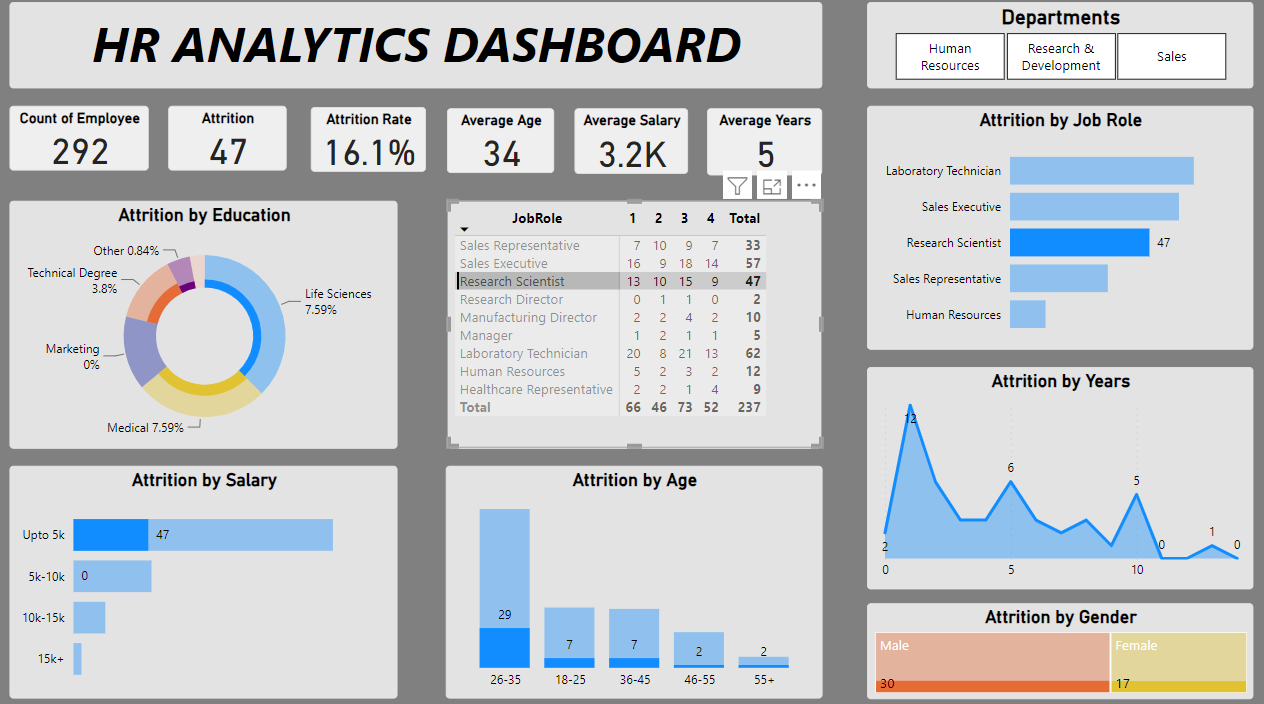

The page's visual inventory and layout, read from the dashboard file:
{"tool":"powerbi","page":{"name":"Page 1","canvas":[1280,720],"ordinal":0},"visuals":[{"type":"card","title":"Count of Employee","fields":{"Values":["CountNonNull(HR_Analytics.EmpID)"]},"box":[17,113.8,139.4,64.9],"z":0},{"type":"card","title":"Attrition","fields":{"Values":["Sum(HR_Analytics.AttritionCount)"]},"box":[176.6,113.8,118.1,64.9],"z":1000},{"type":"card","title":"Attrition Rate","fields":{"Values":["HR_Analytics.AttritionRate"]},"box":[319.1,114.9,114.9,64.9],"z":2000},{"type":"card","title":"Average Age ","fields":{"Values":["Avg(HR_Analytics.Age)"]},"box":[455.3,116,107.4,64.9],"z":3000},{"type":"card","title":"Average Salary","fields":{"Values":["Avg(HR_Analytics.MonthlyIncome)"]},"box":[583,116,113.8,66],"z":4000},{"type":"card","title":"Average Years ","fields":{"Values":["Avg(HR_Analytics.YearsAtCompany)"]},"box":[714.9,116,114.9,67],"z":5000},{"type":"donutChart","title":"Attrition by Education","fields":{"Category":["HR_Analytics.EducationField"],"Y":["Sum(HR_Analytics.AttritionCount)"]},"box":[17,208.5,388.3,247.9],"z":6000},{"type":"columnChart","title":"Attrition by Age","fields":{"Category":["HR_Analytics.AgeGroup"],"Y":["Sum(HR_Analytics.AttritionCount)"]},"box":[453.2,473.4,376.6,233],"z":7000},{"type":"pivotTable","fields":{"Rows":["HR_Analytics.JobRole"],"Columns":["HR_Analytics.JobSatisfaction"],"Values":["Sum(HR_Analytics.AttritionCount)"]},"box":[455.3,208.5,374.5,247.9],"z":8000},{"type":"barChart","title":"Attrition by Salary","fields":{"Category":["HR_Analytics.SalarySlab"],"Y":["Sum(HR_Analytics.AttritionCount)"]},"box":[17,473.4,388.3,233],"z":9000},{"type":"barChart","title":"Attrition by Job Role","fields":{"Category":["HR_Analytics.JobRole"],"Y":["Sum(HR_Analytics.AttritionCount)"]},"box":[875.5,113.8,386.2,243.6],"z":10000},{"type":"areaChart","title":"Attrition by Years","fields":{"Category":["HR_Analytics.YearsAtCompany"],"Y":["Sum(HR_Analytics.AttritionCount)"]},"box":[875,375,386.2,222.5],"z":11000},{"type":"treemap","title":"Attrition by Gender","fields":{"Group":["HR_Analytics.Gender"],"Values":["Sum(HR_Analytics.AttritionCount)"]},"box":[875.5,610.6,386.2,95.7],"z":12000},{"type":"slicer","title":"Departments","fields":{"Values":["HR_Analytics.Department"]},"box":[875.5,9.6,386.2,86.2],"z":13000},{"type":"textbox","box":[17,9.6,812.8,86.2],"z":14000}]}

Visuals, with their boxes in screenshot pixels (x1, y1, x2, y2), scaled from the page's 1280x720 canvas onto the 1264x704 screenshot:
"Count of Employee" card: 17, 111, 154, 175
"Attrition" card: 174, 111, 291, 175
"Attrition Rate" card: 315, 112, 429, 176
"Average Age " card: 450, 113, 556, 177
"Average Salary" card: 576, 113, 688, 178
"Average Years " card: 706, 113, 819, 179
"Attrition by Education" donutChart: 17, 204, 400, 446
"Attrition by Age" columnChart: 448, 463, 819, 691
pivotTable - HR_Analytics.JobRole x HR_Analytics.JobSatisfaction: 450, 204, 819, 446
"Attrition by Salary" barChart: 17, 463, 400, 691
"Attrition by Job Role" barChart: 865, 111, 1246, 349
"Attrition by Years" areaChart: 864, 367, 1245, 584
"Attrition by Gender" treemap: 865, 597, 1246, 691
"Departments" slicer: 865, 9, 1246, 94
textbox: 17, 9, 819, 94
